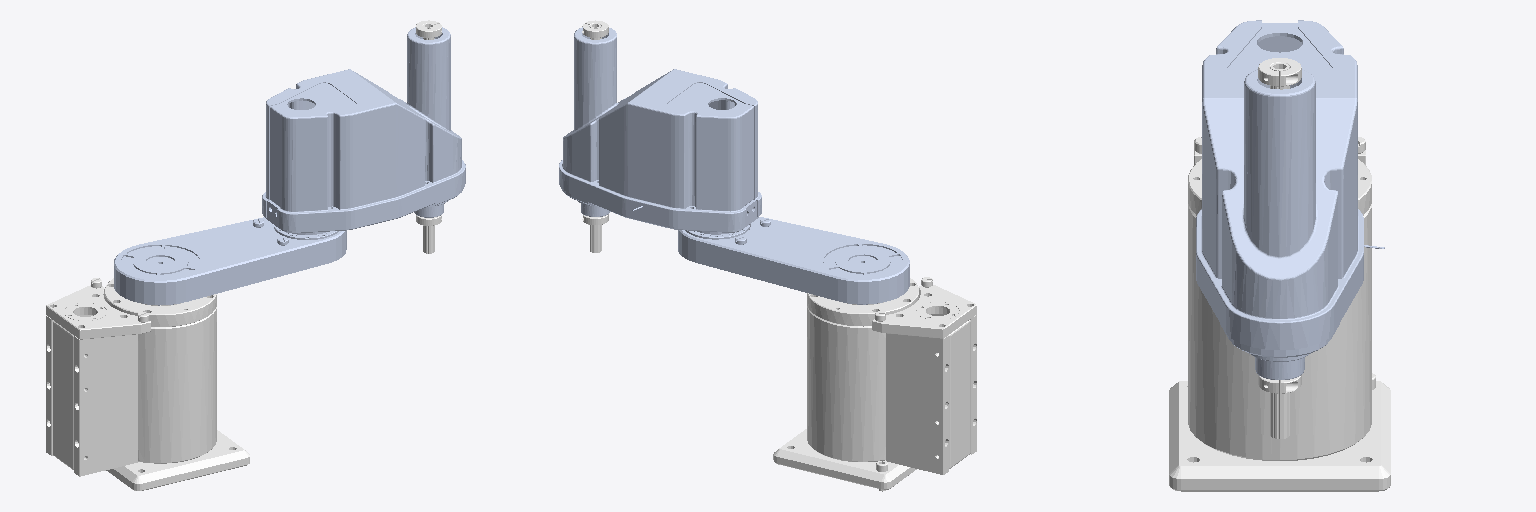
URDF robot description (text):
<?xml version="1.0" encoding="utf-8"?>
<robot name="text">
  <link name="world"/>
    <joint name="fixed_base_to_world" type="fixed">
      <parent link="world"/>
      <child link="base_link"/> <origin xyz="0 0 0" rpy="0 0 0"/>
    </joint>
  <link name="base_link">
    <inertial>
      <origin xyz="-0.025029 7.5976E-05 0.1171" rpy="0 0 0" />
      <mass value="2.5121" />
      <inertia ixx="0.010278" ixy="1.0578E-09" ixz="-7.8534E-05" iyy="0.010072" iyz="5.549E-10" izz="0.0092094" />
    </inertial>
    <visual>
      <origin xyz="0 0 0" rpy="0 0 0" />
      <geometry>
        <mesh filename="package://my_webot_pkg/meshes/base_link.STL" />
      </geometry>
      <material name="">
        <color rgba="1 1 1 1" />
      </material>
    </visual>
    <collision>
      <origin xyz="0 0 0" rpy="0 0 0" />
      <geometry>
        <mesh filename="package://my_webot_pkg/meshes/base_link.STL" />
      </geometry>
    </collision>
  </link>
  <link name="middle_Link">
    <inertial>
      <origin xyz="0.093871 0.025593 2.3414E-07" rpy="0 0 0" />
      <mass value="2.0456" />
      <inertia ixx="0.0026066" ixy="0.00043603" ixz="-2.0448E-08" iyy="0.018197" iyz="-2.0424E-09" izz="0.015966" />
    </inertial>
    <visual>
      <origin xyz="0 0 0" rpy="0 0 0" />
      <geometry>
        <mesh filename="package://my_webot_pkg/meshes/middle_Link.STL" />
      </geometry>
      <material name="">
        <color rgba="0.86667 0.9098 1 1" />
      </material>
    </visual>
    <collision>
      <origin xyz="0 0 0" rpy="0 0 0" />
      <geometry>
        <mesh filename="package://my_webot_pkg/meshes/middle_Link.STL" />
      </geometry>
    </collision>
  </link>
  <joint name="middle_joint" type="continuous">
    <origin xyz="0 0 0.24062" rpy="1.5708 0 0" />
    <parent link="base_link" />
    <child link="middle_Link" />
    <axis xyz="0 1 0" />
  </joint>
  <link name="arm_Link">
    <inertial>
      <origin xyz="0.06346 0.00037889 0.055012" rpy="0 0 0" />
      <mass value="1.713" />
      <inertia ixx="0.0028355" ixy="1.4859E-05" ixz="-0.0001174" iyy="0.007599" iyz="-1.5656E-06" izz="0.0079596" />
    </inertial>
    <visual>
      <origin xyz="0 0 0" rpy="0 0 0" />
      <geometry>
        <mesh filename="package://my_webot_pkg/meshes/arm_Link.STL" />
      </geometry>
      <material name="">
        <color rgba="0.86667 0.9098 1 1" />
      </material>
    </visual>
    <collision>
      <origin xyz="0 0 0" rpy="0 0 0" />
      <geometry>
        <mesh filename="package://my_webot_pkg/meshes/arm_Link.STL" />
      </geometry>
    </collision>
  </link>
  <joint name="arm_joint" type="continuous">
    <origin xyz="0.225 0.0453789999999815 0" rpy="-1.5707963267949 0 0" />
    <parent link="middle_Link" />
    <child link="arm_Link" />
    <axis xyz="0 0 1" />
  </joint>
  <link name="hand_Link">
    <inertial>
      <origin xyz="-0.00010759 -3.1671E-05 0.038796" rpy="0 0 0" />
      <mass value="0.15563" />
      <inertia ixx="0.00033778" ixy="6.0444E-08" ixz="4.3066E-11" iyy="0.00033761" iyz="-5.5366E-11" izz="4.1861E-05" />
    </inertial>
    <visual>
      <origin xyz="0 0 0" rpy="0 0 0" />
      <geometry>
        <mesh filename="package://my_webot_pkg/meshes/hand_Link.STL" />
      </geometry>
      <material name="">
        <color rgba="1 1 1 1" />
      </material>
    </visual>
    <collision>
      <origin xyz="0 0 0" rpy="0 0 0" />
      <geometry>
        <mesh filename="package://my_webot_pkg/meshes/hand_Link.STL" />
      </geometry>
    </collision>
  </link>
  <joint name="hand_joint" type="continuous">
    <origin xyz="0.185999999999999 0 0.0114999999999999" rpy="0 0 0" />
    <parent link="arm_Link" />
    <child link="hand_Link" />
    <axis xyz="0 0 1" />
  </joint>

  <ros2_control name="WebotsControlSystem" type="system">
    <hardware>
      <plugin>webots_ros2_control::Ros2ControlSystem</plugin>
    </hardware>
    <joint name="middle_joint">
      <command_interface name="position" />
      <state_interface name="position" />
      <state_interface name="velocity" />
    </joint>
    <joint name="arm_joint">
      <command_interface name="position" />
      <state_interface name="position" />
      <state_interface name="velocity" />
    </joint>
    <joint name="hand_joint">
      <command_interface name="position" />
      <state_interface name="position" />
      <state_interface name="velocity" />
    </joint>
  </ros2_control>

  <webots>
    <plugin type="webots_ros2_control::Ros2Control" />
  </webots>
</robot>

--- Facts derived from the render (not from the file) ---
The picture shows the robot from 3 angles, left to right: view 1: azimuth 30°, elevation 25°; view 2: azimuth 150°, elevation 25°; view 3: azimuth 270°, elevation 25°; orthographic projection.
Robot: text — 5 links, 4 joints (3 continuous, 1 fixed); root link world; default pose: every joint at zero.
Links seen in each view (by area): view 1: base_link, arm_Link, middle_Link, hand_Link; view 2: base_link, arm_Link, middle_Link, hand_Link; view 3: arm_Link, base_link, hand_Link.
Boxes of the visible links, left/top/right/bottom form: base_link: left=46, top=278, right=249, bottom=490; arm_Link: left=262, top=27, right=465, bottom=234; middle_Link: left=114, top=217, right=346, bottom=305; hand_Link: left=416, top=20, right=441, bottom=253; base_link: left=773, top=277, right=976, bottom=491; arm_Link: left=559, top=27, right=761, bottom=234; middle_Link: left=678, top=217, right=909, bottom=304; hand_Link: left=582, top=20, right=608, bottom=252; arm_Link: left=1196, top=20, right=1384, bottom=379; base_link: left=1169, top=137, right=1390, bottom=491; hand_Link: left=1258, top=58, right=1301, bottom=438.
Bounding box of the posed robot: 0.6105 × 0.18 × 0.541 m (x, y, z).
Meshes: 4 distinct files referenced, 4 mesh visuals loaded (4 binary STL).
